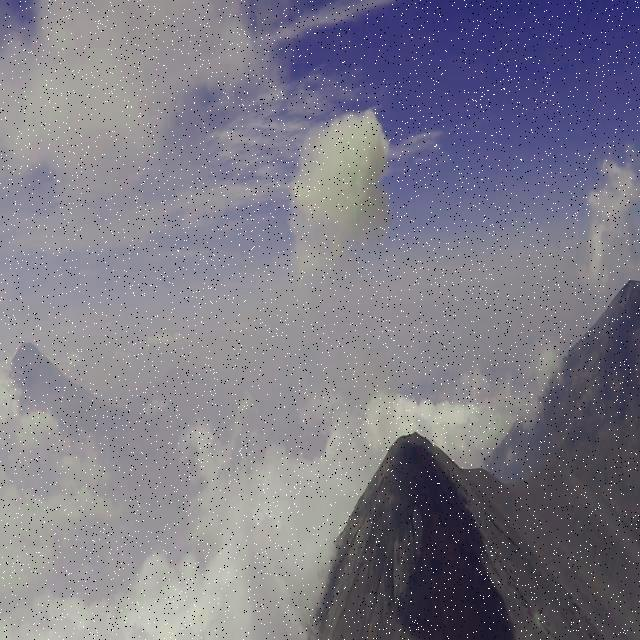Plume: (284, 99, 396, 296)
Summit: (329, 423, 513, 606)
